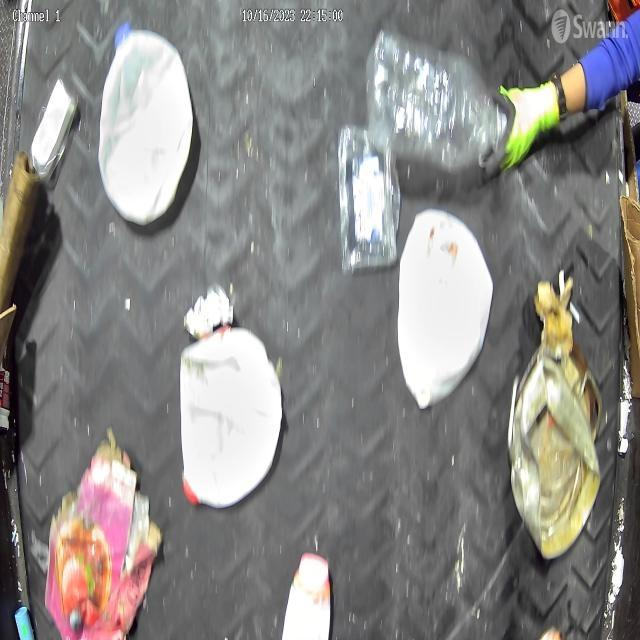milk_jug: (396, 206, 494, 411), (178, 327, 282, 513), (100, 21, 194, 221)
plastic_bottle: (364, 29, 508, 172)
